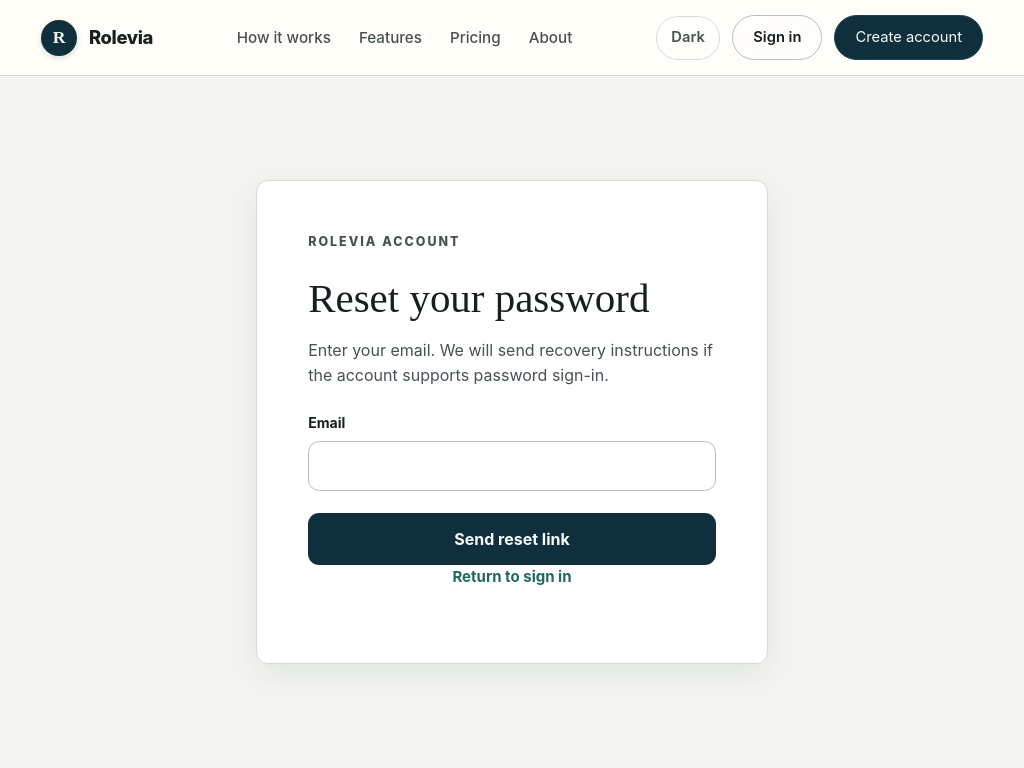
Test case: Rolevia public application › renders and submits forgot password form
Expected: the heading "Reset your password" is shown, [308,275,649,321]
Type "forgot@example.com" into the field labelled "Email" at (512, 466), box [308,441,716,491]
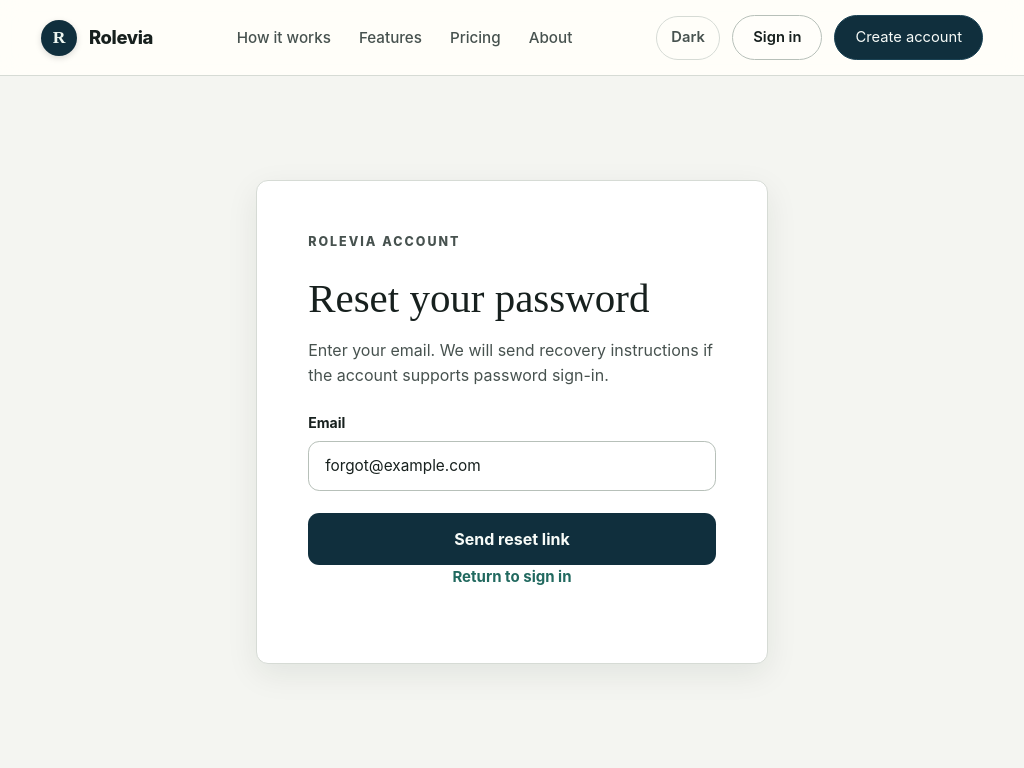
Click the button "Send reset link" at (512, 539), box [308,513,716,565]
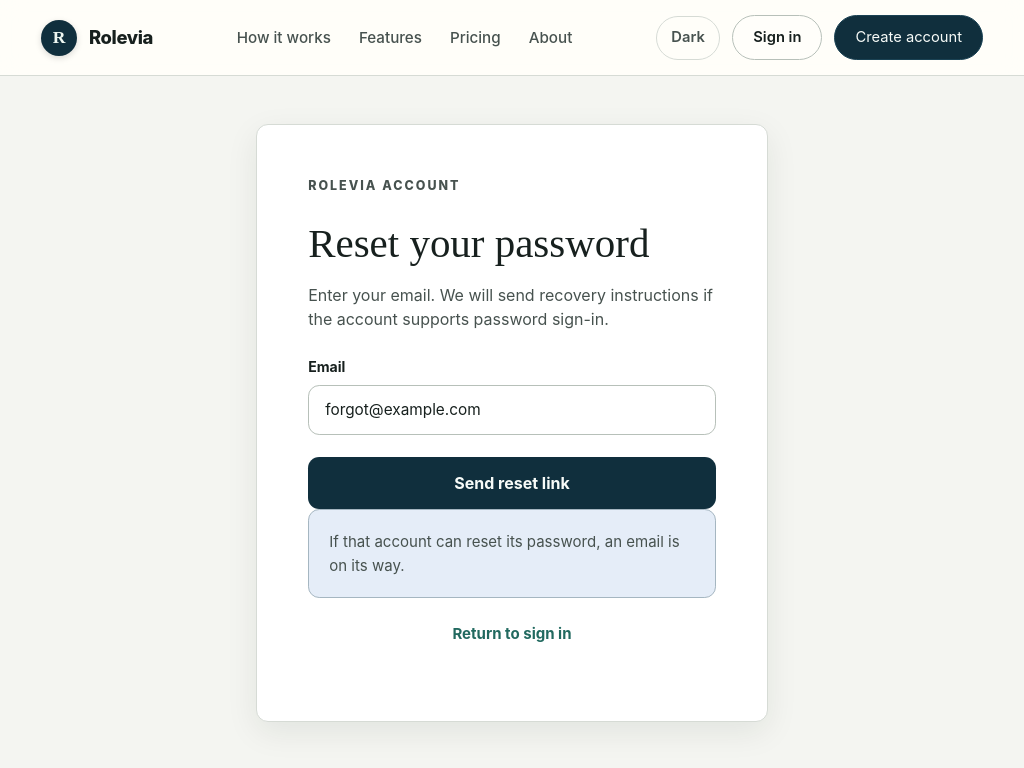
Expected: the text "If that account can reset its password, an email is on its way." is shown, [308,509,716,598]
